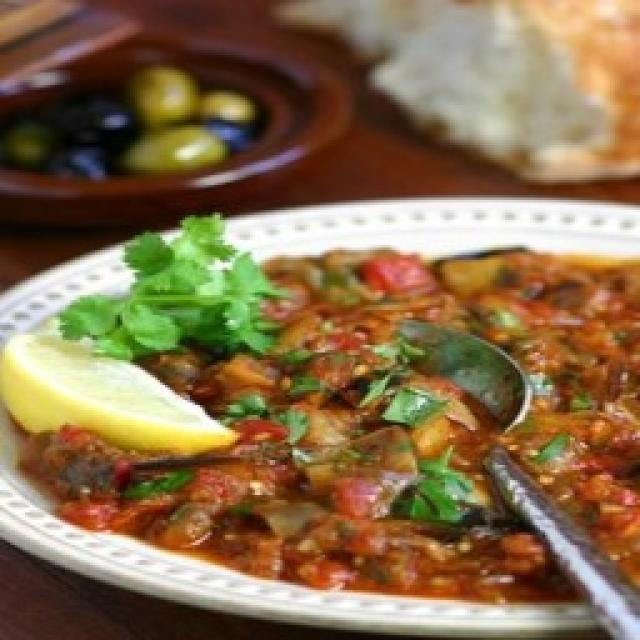Brik: (335, 472, 416, 518)
